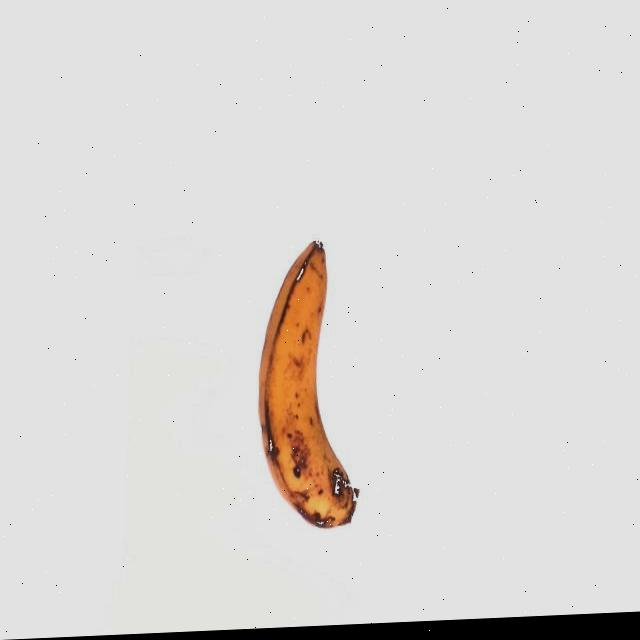banana: (256, 226, 358, 533)
